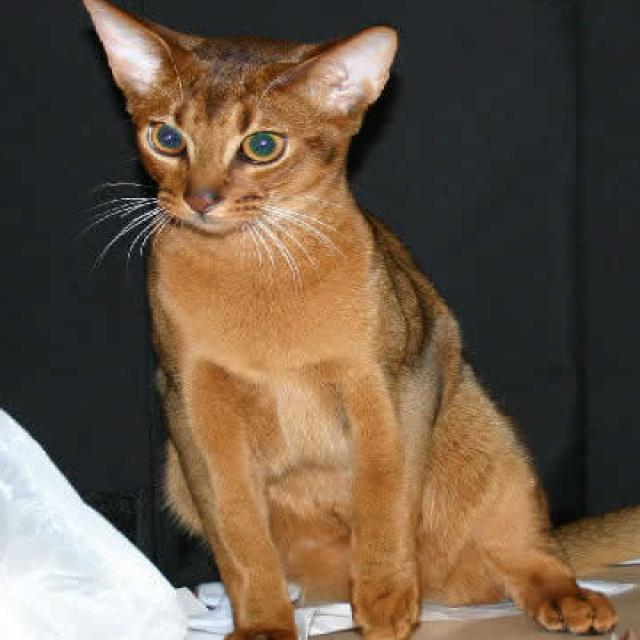Abyssinian: (76, 0, 624, 640)
